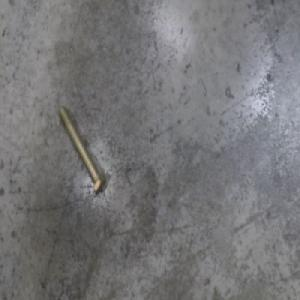Bolt: (56, 103, 107, 196)
